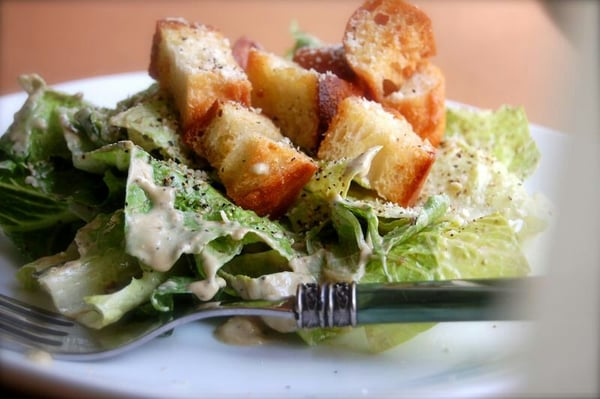curry: (0, 73, 132, 259)
